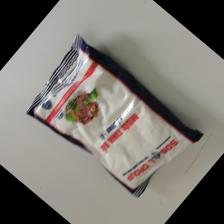Salt: (23, 34, 205, 198)
